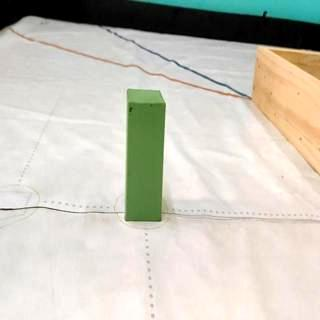greenbox: (125, 88, 167, 222)
